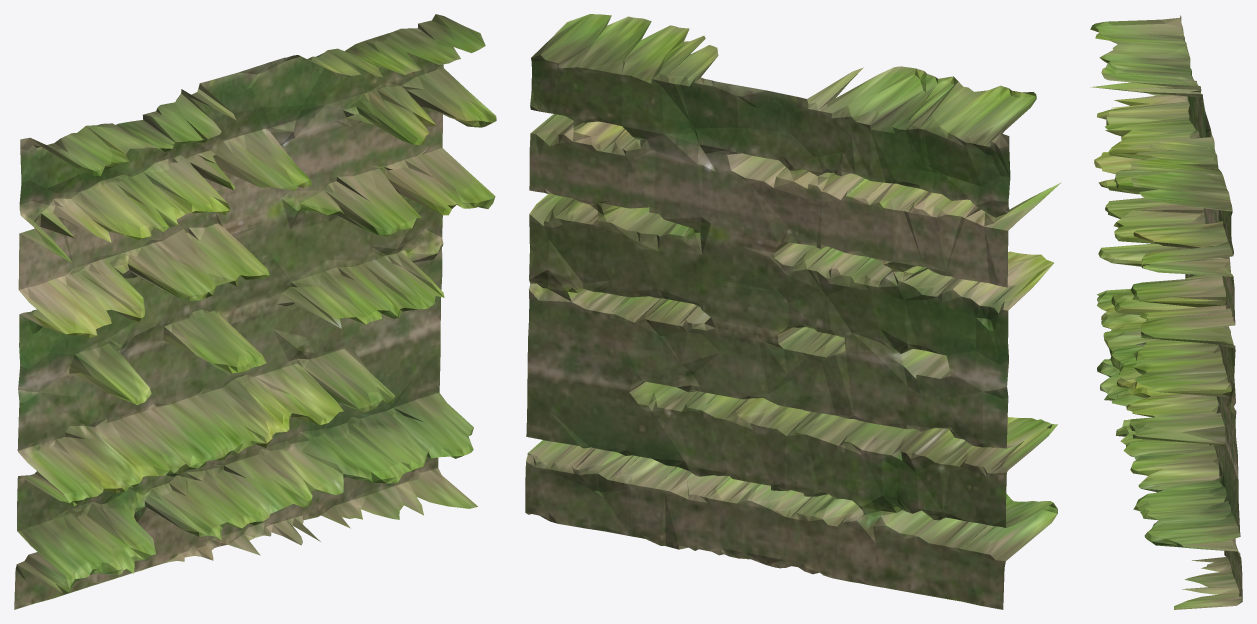
The model's file is map_90_40.obj.
3 views of the same model, side by side, from view 1: azimuth 30°, elevation 25°; view 2: azimuth 150°, elevation 25°; view 3: azimuth 270°, elevation 25° (orthographic). The views are drawn at different scales.
Parts seen in each view (by area): view 1: grp1; view 2: grp1; view 3: grp1.
Boxes of the visible parts, bbox=[...] form: grp1: bbox=[14, 14, 496, 609]; grp1: bbox=[525, 14, 1061, 609]; grp1: bbox=[1090, 15, 1242, 609].
Bounding box in the file's own units: 10 × 10 × 3.4.
Materials: 1 (1 with a texture image).
